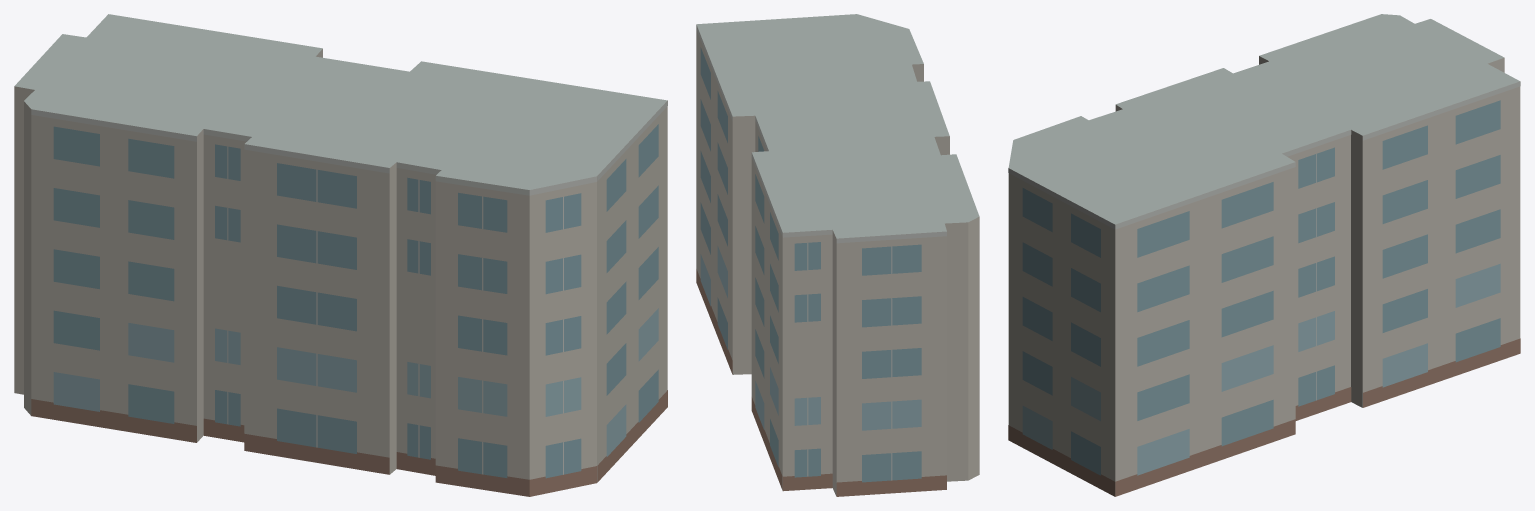
The model's file is survey-upis-32745450.glb.
3 views of the same model, side by side, from view 1: azimuth 30°, elevation 25°; view 2: azimuth 150°, elevation 25°; view 3: azimuth 270°, elevation 25° (orthographic). The views are drawn at different scales.
Visible parts, largest first — view 1: survey-upis-32745450.tmp; view 2: survey-upis-32745450.tmp; view 3: survey-upis-32745450.tmp.
Part boxes in pixels (x1,y1,x2,y2): survey-upis-32745450.tmp: (14, 14, 667, 496); survey-upis-32745450.tmp: (696, 14, 979, 496); survey-upis-32745450.tmp: (1008, 14, 1520, 496).
Size of the model in its own units: 22.16 by 13.35 by 22.76.
